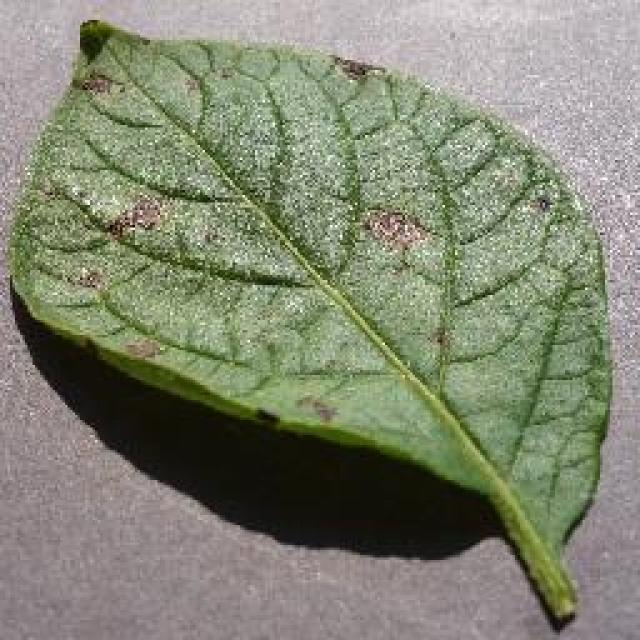early_blight: (5, 15, 617, 630)
